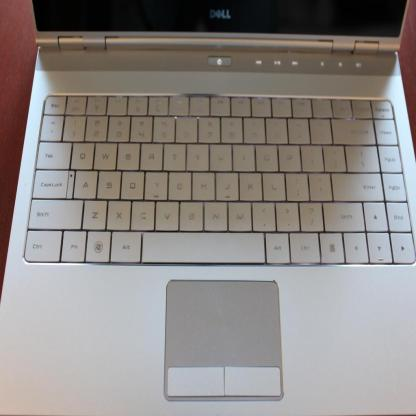board: (0, 1, 416, 414)
